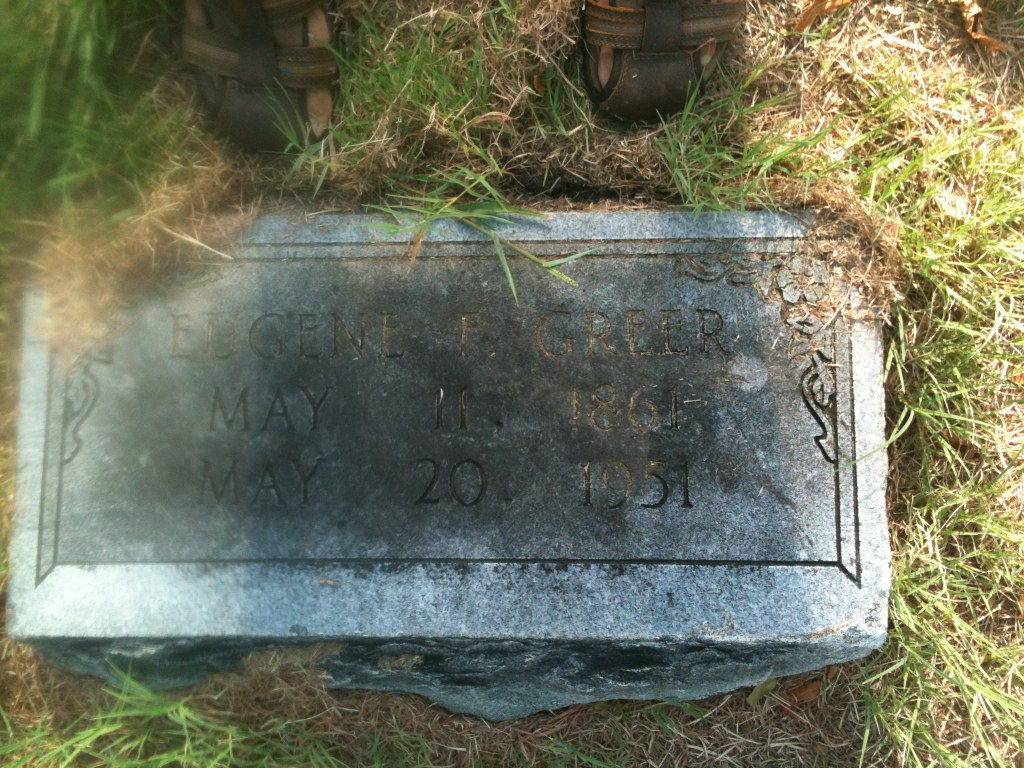flat: (6, 202, 889, 649)
